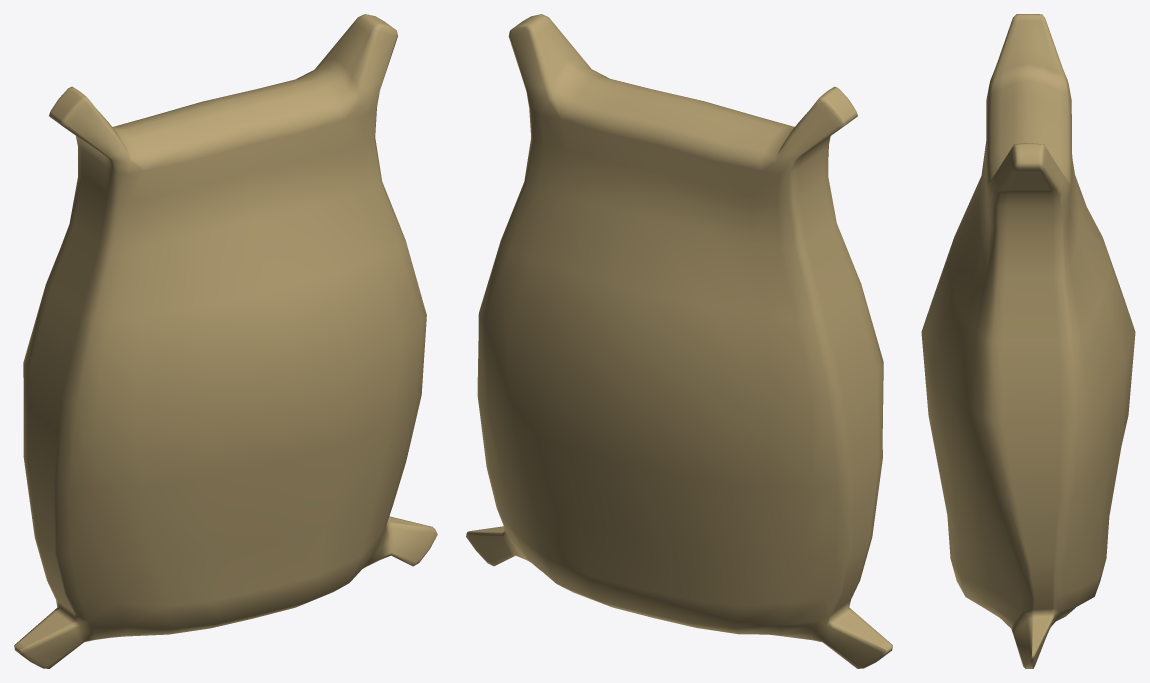
File: Potato_Sack.fbx
The picture shows the model from 3 angles, left to right: view 1: azimuth 30°, elevation 25°; view 2: azimuth 150°, elevation 25°; view 3: azimuth 270°, elevation 25°; orthographic projection. The views are drawn at different scales.
Visible parts, largest first — view 1: Potato_Sack2; view 2: Potato_Sack2; view 3: Potato_Sack2.
Boxes of the visible parts, <box> form: Potato_Sack2: <box>14,14,437,668</box>; Potato_Sack2: <box>466,14,892,668</box>; Potato_Sack2: <box>921,14,1135,668</box>.
Bounding box in the file's own units: 12.28 × 15.83 × 5.92.
